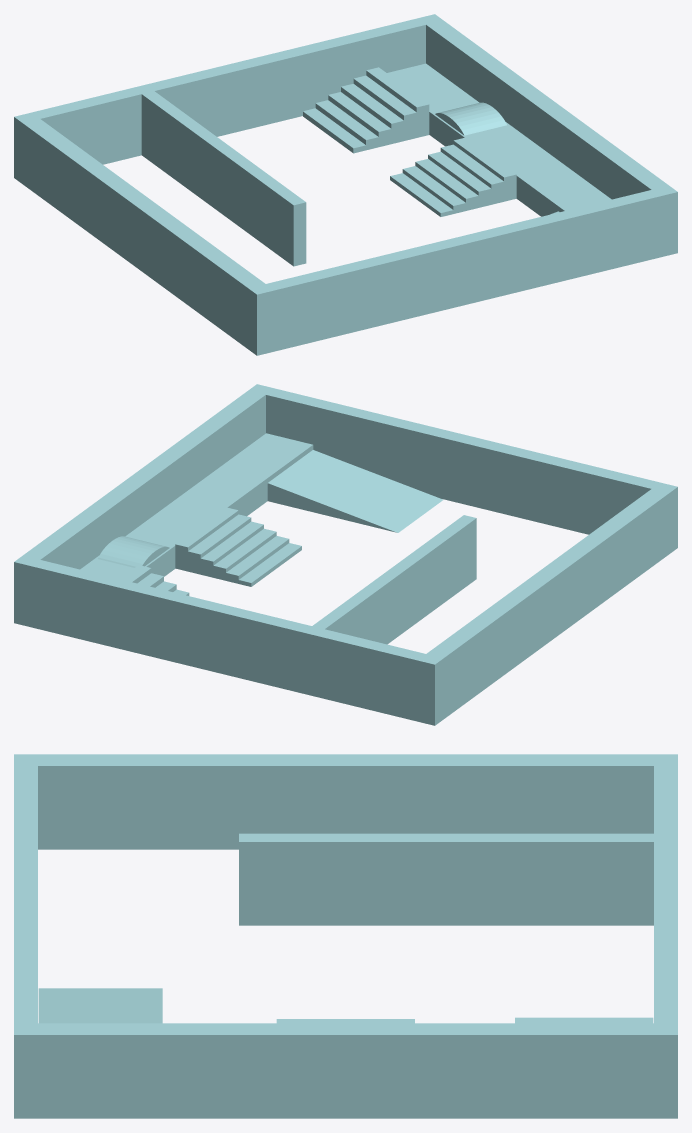
File: enviroment.dae
3 renders of one model, top to bottom at view 1: azimuth 30°, elevation 25°; view 2: azimuth 150°, elevation 25°; view 3: azimuth 270°, elevation 25°, orthographic. The views are drawn at different scales.
Parts seen in each view (by area): view 1: Cube_003, Cube_002, Cube_001, Cube_004, Cylinder; view 2: Cube_003, Cube_002, Cube, Cube_004, Cylinder, Cube_001; view 3: Cube_003, Cube, Cube_001, Cube_004.
Part boxes in pixels (x1=…): Cube_003: x1=14, y1=14, x2=677, y2=355; Cube_002: x1=387, y1=63, x2=611, y2=216; Cube_001: x1=303, y1=67, x2=429, y2=153; Cube_004: x1=390, y1=137, x2=516, y2=216; Cylinder: x1=435, y1=102, x2=506, y2=135; Cube_003: x1=14, y1=384, x2=677, y2=725; Cube_002: x1=80, y1=433, x2=313, y2=578; Cube: x1=267, y1=450, x2=443, y2=532; Cube_004: x1=175, y1=507, x2=301, y2=586; Cylinder: x1=98, y1=536, x2=169, y2=567; Cube_001: x1=119, y1=565, x2=189, y2=595; Cube_003: x1=14, y1=754, x2=677, y2=1118; Cube: x1=38, y1=988, x2=162, y2=1023; Cube_001: x1=515, y1=1017, x2=653, y2=1023; Cube_004: x1=276, y1=1019, x2=414, y2=1023.
Bounding box in the file's own units: 14.4 × 14.4 × 2.01.
